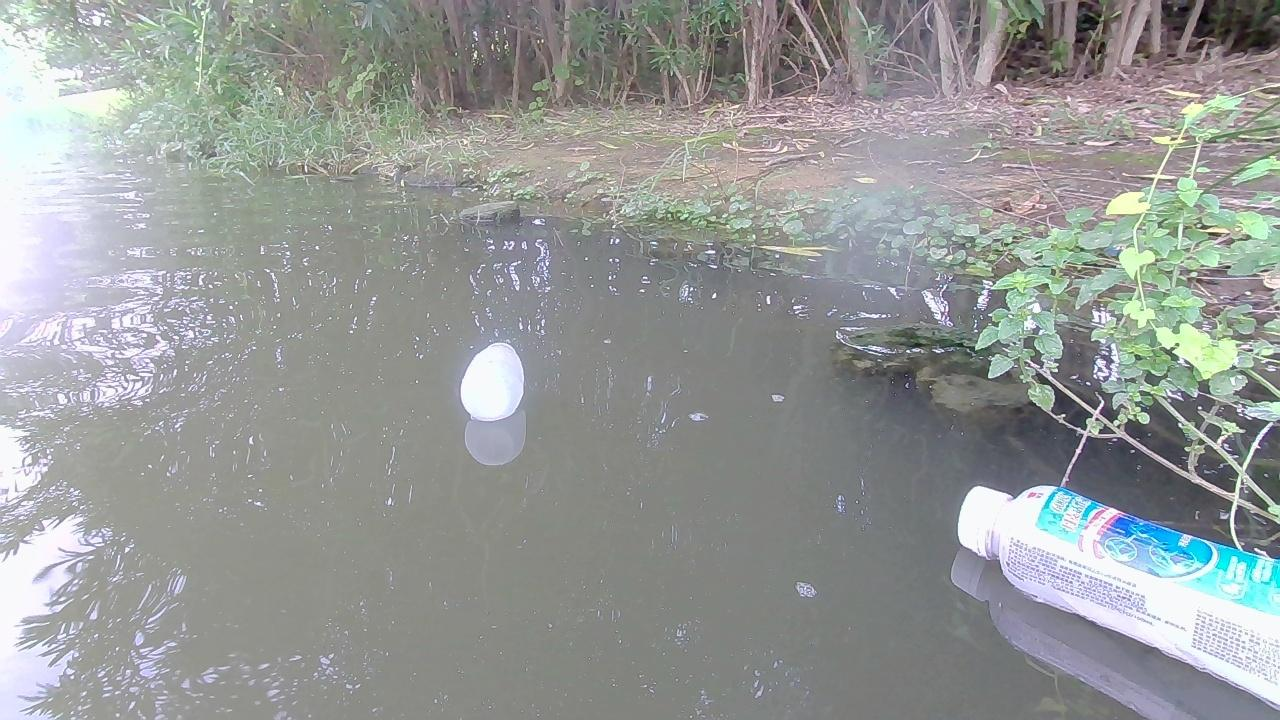bottle: (951, 480, 1279, 685), (456, 337, 524, 422)
